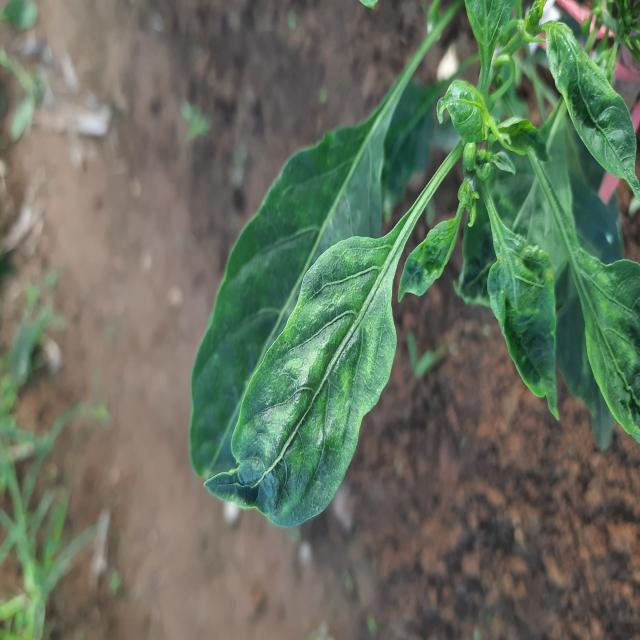thrips: (205, 224, 420, 544), (397, 202, 462, 324)
